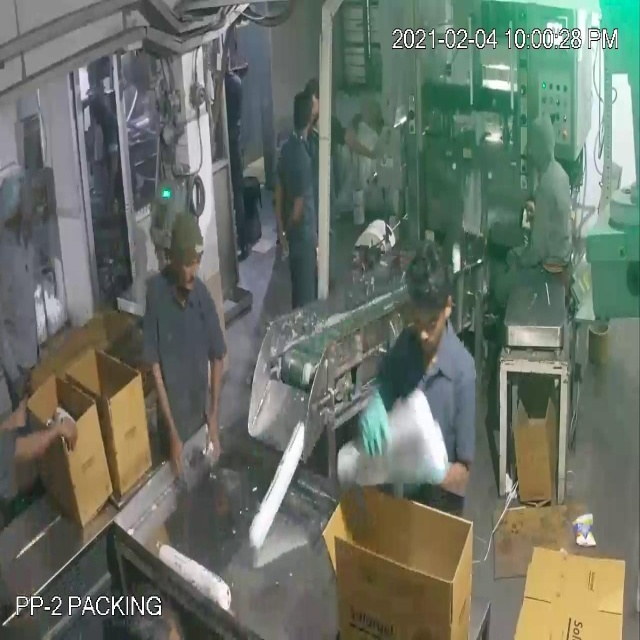Guantes: (352, 380, 400, 471)
Sin_guantes: (138, 332, 186, 478), (201, 316, 230, 479), (10, 417, 88, 476), (335, 123, 398, 164), (268, 171, 290, 268), (1, 395, 37, 448)
